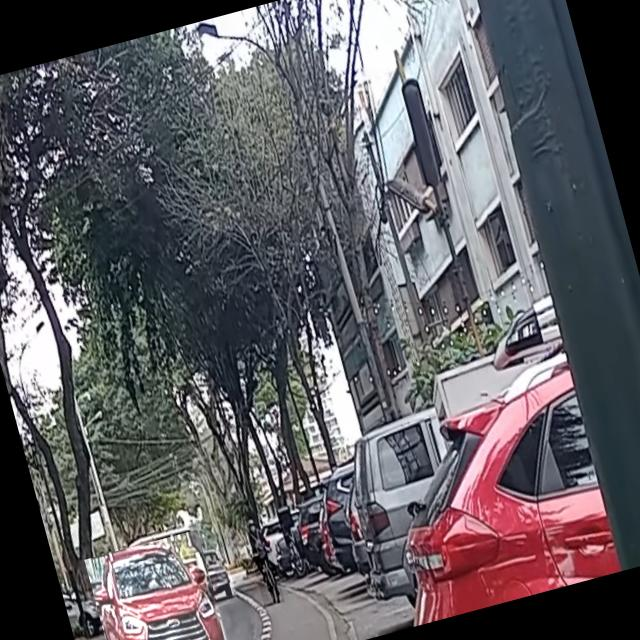bicycle: (249, 544, 284, 606)
car: (84, 529, 236, 640), (190, 546, 237, 606)
